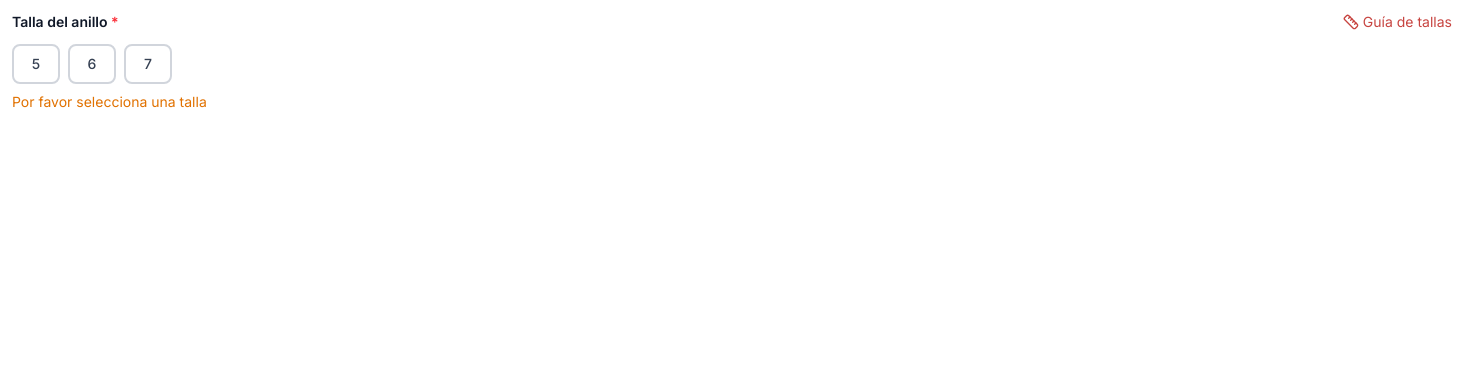
Test: SizeSelector Component › Size Guide › should show ring size guide content
This screenshot has width=1464, height=380.
Click the button "Guía de tallas" at (1397, 22), box [1343, 12, 1452, 32]
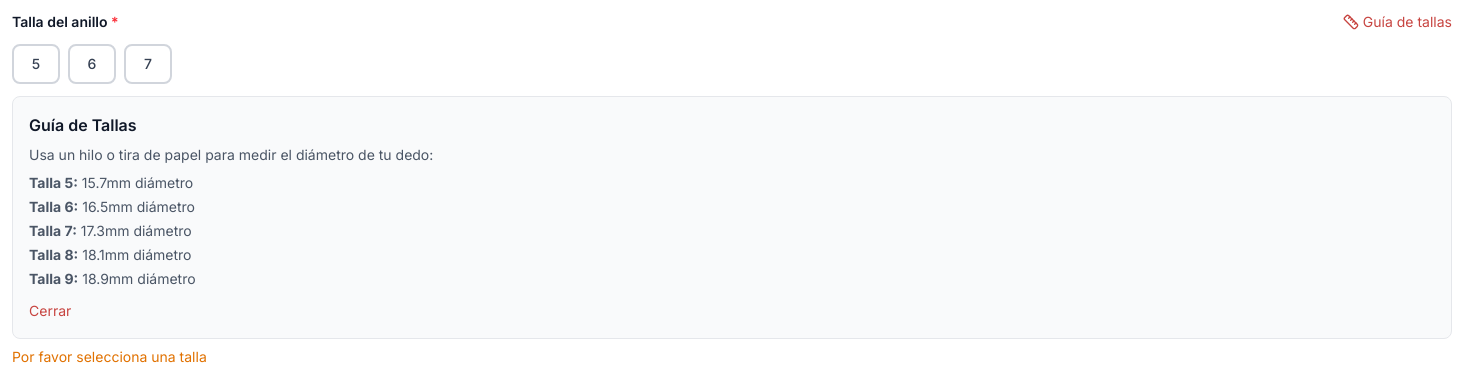
Expected: the text "medir el diámetro" is shown, [29, 146, 433, 163]
Expected: the text "Talla 5:" is shown, [29, 174, 78, 191]
